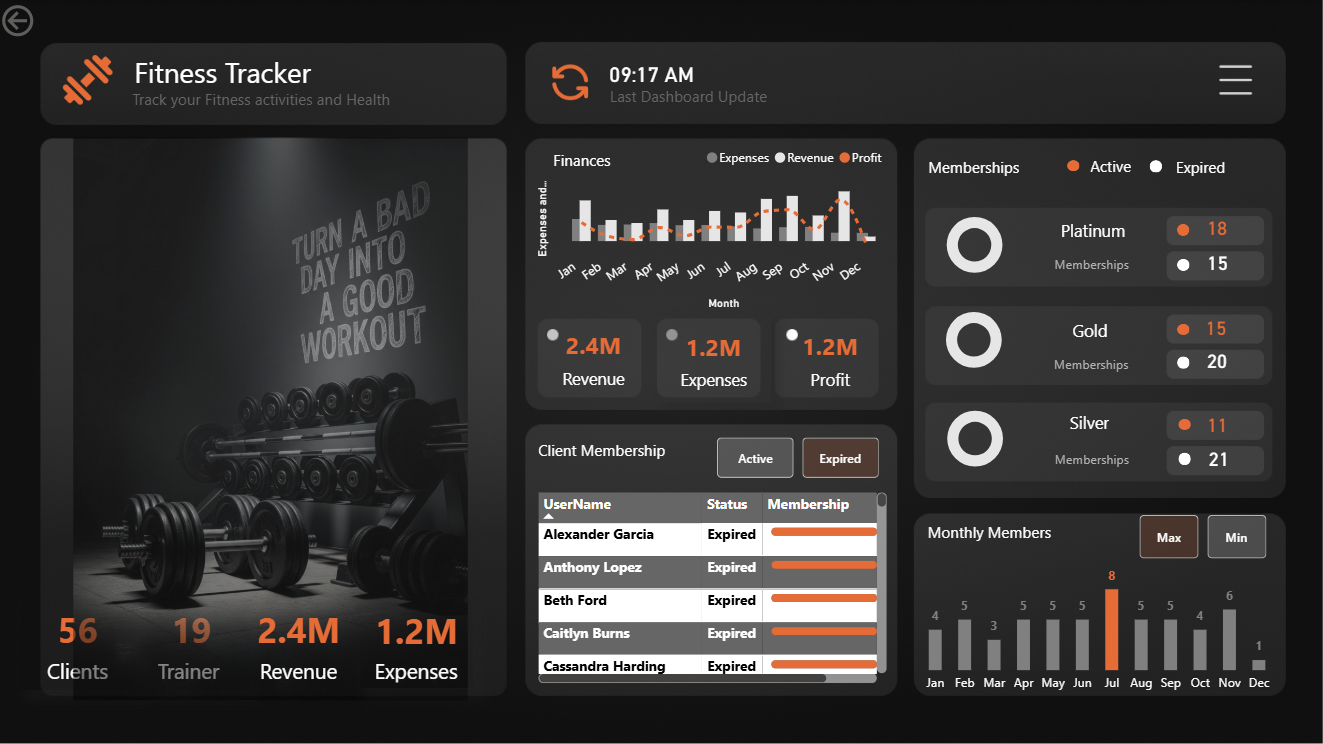

What the dashboard file says about the page in this screenshot:
{"tool":"powerbi","page":{"name":"Page 1","canvas":[1280,720],"ordinal":0},"visuals":[{"type":"card","fields":{"Values":["_Measures.Users_Count"]},"box":[22.6,577.1,110,89.3],"z":0},{"type":"actionButton","box":[0,0,100,40],"z":1000},{"type":"card","fields":{"Values":["Users.Trainer Name"]},"box":[133,577.1,110,89.3],"z":2000},{"type":"card","fields":{"Values":["_Measures.Expenses"]},"box":[637,305,109.8,83.7],"z":3000},{"type":"card","fields":{"Values":["_Measures.Revenue"]},"box":[521.4,301.9,109.8,87.8],"z":4000},{"type":"card","fields":{"Values":["_Measures.Profit"]},"box":[746.5,301.9,115.3,89.2],"z":5000},{"type":"lineClusteredColumnComboChart","fields":{"Y":["_Measures.Expenses","_Measures.Revenue"],"Y2":["_Measures.Profit"],"Category":["Calendar.Month"]},"box":[516,133.1,347.2,171.5],"z":6000},{"type":"shape","box":[489.9,133.1,149.6,42.5],"z":7000},{"type":"clusteredColumnChart","fields":{"Y":["_Measures.Users_Count"],"Category":["Calendar.Month"]},"box":[883.7,535.2,358.1,141.3],"z":8000},{"type":"shape","box":[883.7,492.6,149.6,42.5],"z":9000},{"type":"advancedSlicerVisual","fields":{"Values":["Min_Max_switch.Type"]},"box":[1097.8,492.6,133.1,52.1],"z":10000},{"type":"image","box":[0,133.1,528.3,543.4],"z":11000},{"type":"card","fields":{"Values":["_Measures.Revenue"]},"box":[233.3,573.6,116.6,97.4],"z":12000},{"type":"card","fields":{"Values":["_Measures.Expenses"]},"box":[349.9,580.4,109.8,83.7],"z":13000},{"type":"tableEx","fields":{"Values":["Users.UserName","Users.Status","_Measures.SVG_BarChart1"]},"box":[516,470.7,347.2,193.5],"z":14000},{"type":"shape","box":[509.6,414.3,149.2,41.4],"z":15000},{"type":"shape","box":[982.8,201.6,149.2,41.4],"z":16000},{"type":"shape","box":[981.1,296.4,148.2,42.5],"z":17000},{"type":"shape","box":[979.8,387,149.6,41.2],"z":18000},{"type":"shape","box":[981.7,233.7,149.2,41.4],"z":19000},{"type":"shape","box":[982.5,329.3,148.2,42.5],"z":20000},{"type":"shape","box":[982.5,422.6,149.6,41.2],"z":21000},{"type":"donutChart","fields":{"Y":["_Measures.User_platinum"],"Category":["Users.Status"]},"box":[883.9,197.5,118.8,77.3],"z":22000},{"type":"donutChart","fields":{"Y":["_Measures.User_Silver"],"Category":["Users.Status"]},"box":[885.3,385.3,117.4,77.3],"z":23000},{"type":"donutChart","fields":{"Y":["_Measures.User_Gold"],"Category":["Users.Status"]},"box":[883.9,290,117.4,77.3],"z":24000},{"type":"advanceCardE03760C5AB684758B56AA29F9E6C257B","fields":{"mainMeasure":["_Measures.Gold_Active"]},"box":[1152.7,301.9,49.4,31.6],"z":25000},{"type":"advanceCardE03760C5AB684758B56AA29F9E6C257B","fields":{"mainMeasure":["_Measures.Gold_Expired"]},"box":[1152.7,332.1,50.8,35.7],"z":26000},{"type":"advanceCardE03760C5AB684758B56AA29F9E6C257B","fields":{"mainMeasure":["_Measures.Silver_Active"]},"box":[1150,393,56.3,35.7],"z":27000},{"type":"advanceCardE03760C5AB684758B56AA29F9E6C257B","fields":{"mainMeasure":["_Measures.Silver_Expired"]},"box":[1154,421,49.4,45.3],"z":28000},{"type":"advanceCardE03760C5AB684758B56AA29F9E6C257B","fields":{"mainMeasure":["_Measures.Platinum_Expired"]},"box":[1156.8,237,42.5,35.7],"z":29000},{"type":"advanceCardE03760C5AB684758B56AA29F9E6C257B","fields":{"mainMeasure":["_Measures.Platinum_Active"]},"box":[1155.4,203,43.9,35.7],"z":30000},{"type":"shape","box":[1138.9,216,12,12],"z":31000},{"type":"shape","box":[1139,249.7,12.3,12],"z":32000},{"type":"shape","box":[1139,312.9,12.3,11],"z":33000},{"type":"shape","box":[1139,344.4,12.3,12.3],"z":34000},{"type":"shape","box":[1140.3,404,12.3,11],"z":35000},{"type":"shape","box":[1140,437,12.3,12.3],"z":36000},{"type":"shape","box":[868.6,139.9,148.4,42.2],"z":37000},{"type":"shape","box":[1033.3,155,12.3,11],"z":38000},{"type":"shape","box":[1112.6,154.8,12.3,12.3],"z":39000},{"type":"shape","box":[1000.3,138.6,149.6,42.5],"z":40000},{"type":"shape","box":[1086.5,139.7,149.6,42.5],"z":41000},{"type":"shape","box":[87.8,46.7,259.3,42.5],"z":42000},{"type":"shape","box":[87.8,72.7,334,45],"z":42001},{"type":"image","box":[1172,62,48,31.6],"z":42002},{"type":"advanceCardE03760C5AB684758B56AA29F9E6C257B","fields":{"mainMeasure":["_Measures.Last_Refresh"]},"box":[528,46,207.2,52.1],"z":42003},{"type":"shape","box":[499.5,71.4,336.2,42.5],"z":42004},{"type":"image","box":[63.1,53.5,49.4,48],"z":42005},{"type":"image","box":[528,56,49.4,48],"z":42006},{"type":"advancedSlicerVisual","fields":{"Values":["Users.Status"]},"box":[690.2,417.2,167.4,49.4],"z":42007}]}

Visuals, with their boxes in screenshot pixels (x1, y1, x2, y2), scaled from the page's 1280x720 canvas onto the 1323x744 screenshot:
card - _Measures.Users_Count: rect(23, 596, 137, 689)
actionButton: rect(0, 0, 103, 41)
card - Users.Trainer Name: rect(137, 596, 251, 689)
card - _Measures.Expenses: rect(658, 315, 772, 402)
card - _Measures.Revenue: rect(539, 312, 652, 403)
card - _Measures.Profit: rect(772, 312, 891, 404)
lineClusteredColumnComboChart - _Measures.Expenses x _Measures.Revenue: rect(533, 138, 892, 315)
shape: rect(506, 138, 661, 181)
clusteredColumnChart - _Measures.Users_Count x Calendar.Month: rect(913, 553, 1284, 699)
shape: rect(913, 509, 1068, 553)
advancedSlicerVisual - Min_Max_switch.Type: rect(1135, 509, 1272, 563)
image: rect(0, 138, 546, 699)
card - _Measures.Revenue: rect(241, 593, 362, 693)
card - _Measures.Expenses: rect(362, 600, 475, 686)
tableEx - Users.UserName x Users.Status: rect(533, 486, 892, 686)
shape: rect(527, 428, 681, 471)
shape: rect(1016, 208, 1170, 251)
shape: rect(1014, 306, 1167, 350)
shape: rect(1013, 400, 1167, 442)
shape: rect(1015, 241, 1169, 284)
shape: rect(1016, 340, 1169, 384)
shape: rect(1016, 437, 1170, 479)
donutChart - _Measures.User_platinum x Users.Status: rect(914, 204, 1036, 284)
donutChart - _Measures.User_Silver x Users.Status: rect(915, 398, 1036, 478)
donutChart - _Measures.User_Gold x Users.Status: rect(914, 300, 1035, 380)
advanceCardE03760C5AB684758B56AA29F9E6C257B - _Measures.Gold_Active: rect(1191, 312, 1242, 345)
advanceCardE03760C5AB684758B56AA29F9E6C257B - _Measures.Gold_Expired: rect(1191, 343, 1244, 380)
advanceCardE03760C5AB684758B56AA29F9E6C257B - _Measures.Silver_Active: rect(1189, 406, 1247, 443)
advanceCardE03760C5AB684758B56AA29F9E6C257B - _Measures.Silver_Expired: rect(1193, 435, 1244, 482)
advanceCardE03760C5AB684758B56AA29F9E6C257B - _Measures.Platinum_Expired: rect(1196, 245, 1240, 282)
advanceCardE03760C5AB684758B56AA29F9E6C257B - _Measures.Platinum_Active: rect(1194, 210, 1240, 247)
shape: rect(1177, 223, 1190, 236)
shape: rect(1177, 258, 1190, 270)
shape: rect(1177, 323, 1190, 335)
shape: rect(1177, 356, 1190, 369)
shape: rect(1179, 417, 1191, 429)
shape: rect(1178, 452, 1191, 464)
shape: rect(898, 145, 1051, 188)
shape: rect(1068, 160, 1081, 172)
shape: rect(1150, 160, 1163, 173)
shape: rect(1034, 143, 1189, 187)
shape: rect(1123, 144, 1278, 188)
shape: rect(91, 48, 359, 92)
shape: rect(91, 75, 436, 122)
image: rect(1211, 64, 1261, 97)
advanceCardE03760C5AB684758B56AA29F9E6C257B - _Measures.Last_Refresh: rect(546, 48, 760, 101)
shape: rect(516, 74, 864, 118)
image: rect(65, 55, 116, 105)
image: rect(546, 58, 597, 107)
advancedSlicerVisual - Users.Status: rect(713, 431, 886, 482)
